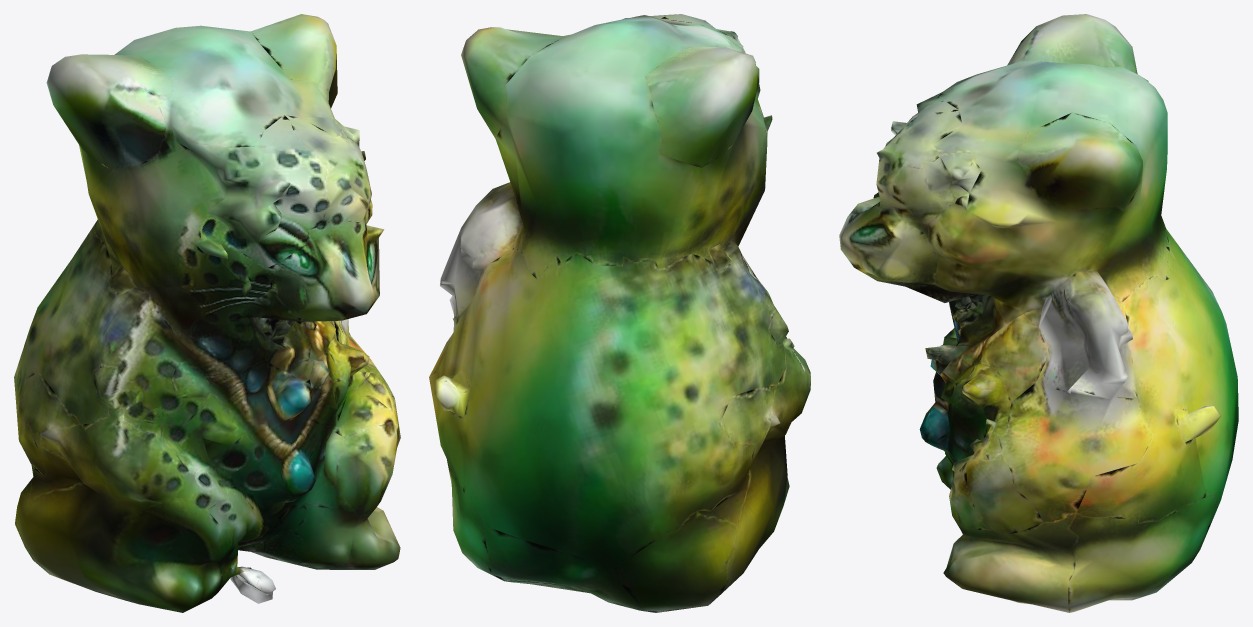
File: jaguar-statue.lod0.glb
3 views of the same model, side by side, from view 1: azimuth 30°, elevation 25°; view 2: azimuth 150°, elevation 25°; view 3: azimuth 270°, elevation 25° (orthographic). The views are drawn at different scales.
Visible parts, largest first — view 1: Object_5; view 2: Object_5; view 3: Object_5.
Boxes of the visible parts, x1,y1,x2,y2 form: Object_5: [14, 14, 400, 612]; Object_5: [429, 14, 810, 612]; Object_5: [839, 14, 1238, 612].
Bounding box in the file's own units: 0.8663 × 1.39 × 1.
Materials: 1 (1 with a texture image).
